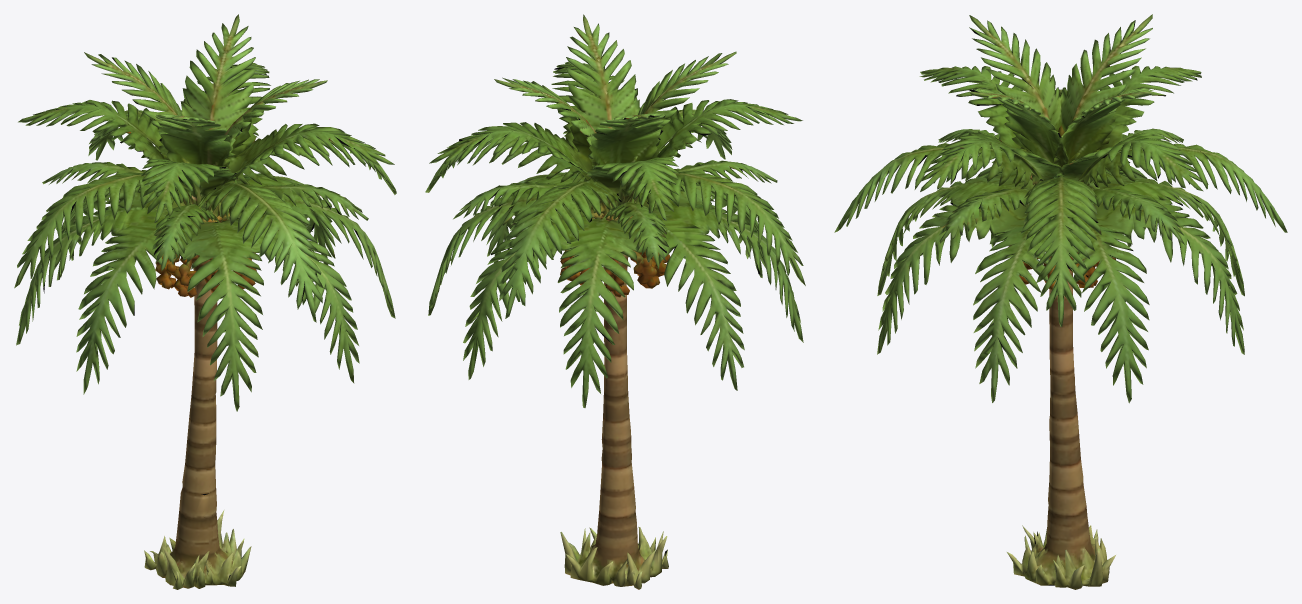
Rendered from Low_Poly_Coconut_Palm.fbx.
3 views of the same model, side by side, from view 1: azimuth 30°, elevation 25°; view 2: azimuth 150°, elevation 25°; view 3: azimuth 270°, elevation 25° (orthographic). The views are drawn at different scales.
Visible parts, largest first — view 1: Low_Poly_Coconut_Palm_LOD0; view 2: Low_Poly_Coconut_Palm_LOD0; view 3: Low_Poly_Coconut_Palm_LOD0.
Part boxes in pixels (x1,y1,x2,y2): Low_Poly_Coconut_Palm_LOD0: (14, 14, 396, 589); Low_Poly_Coconut_Palm_LOD0: (425, 14, 805, 589); Low_Poly_Coconut_Palm_LOD0: (834, 14, 1287, 589).
Size of what is drawn, in the model's own units: 1.51 by 1.9 by 1.51.
Materials: 1 (1 with a texture image).
